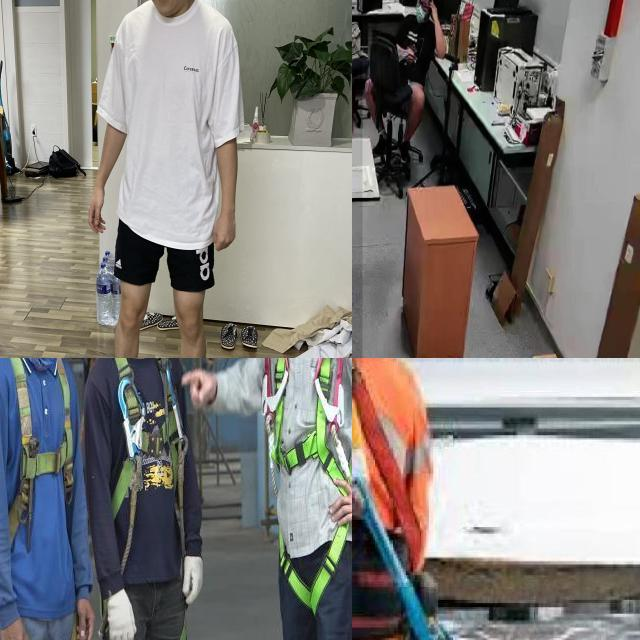Harness: (93, 358, 191, 640), (0, 358, 81, 640), (266, 358, 352, 622)
face_mask: (411, 0, 432, 23)
hand_noglove: (401, 44, 415, 65), (427, 0, 438, 22)
person: (360, 0, 445, 165)
